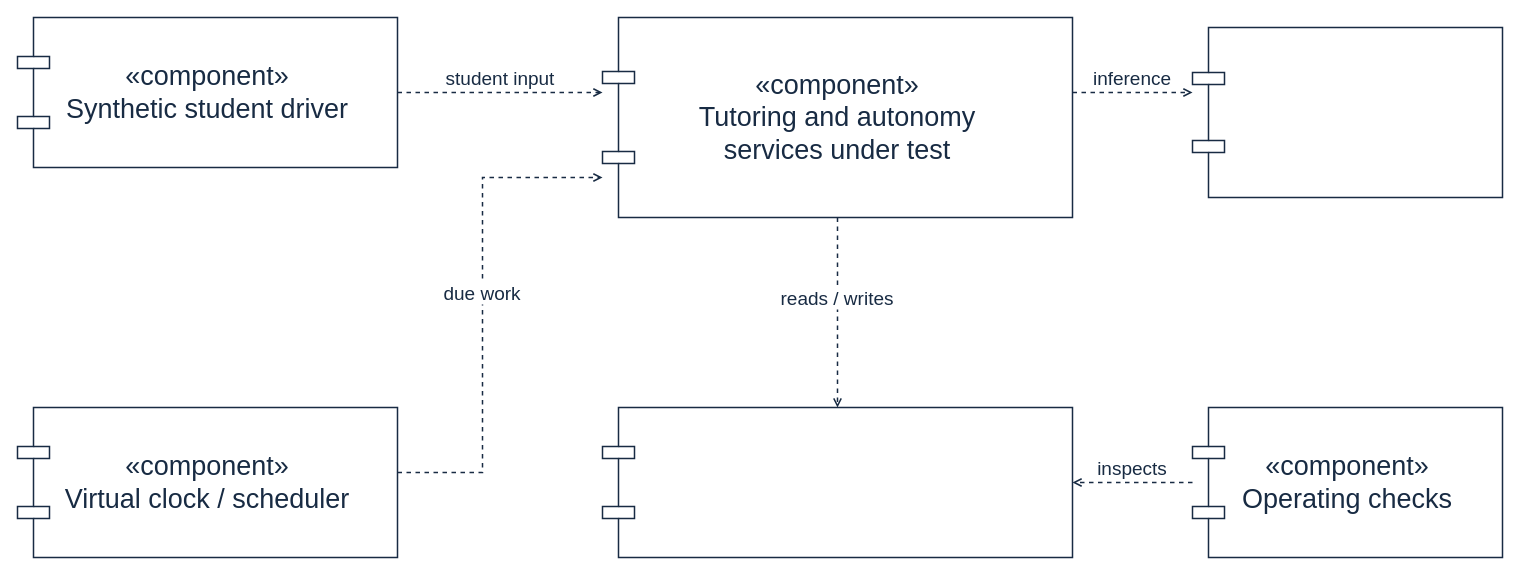
Some shapes in this 1521 by 576 pixel diagram are drawn without their labels. The centre of each missing label's shape, as x and y in pixels:
"«component» Configured model provider" goes at point (1347, 112).
"«component» Persisted conversations, goals and delivery records" goes at point (837, 482).
